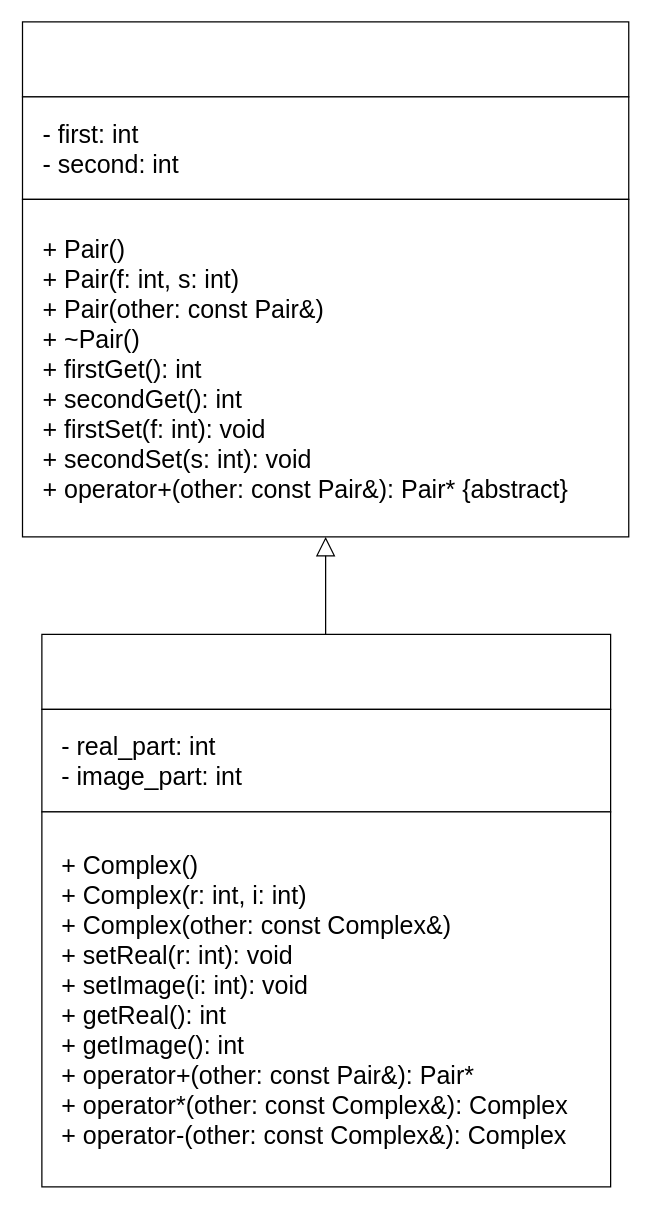
This 650x1209 diagram has some shape labels left out. The centre of each missing label's shape, as x and y in pixels:
"Complex" goes at [326,671].
"Pair {abstract}" goes at [325,59].
